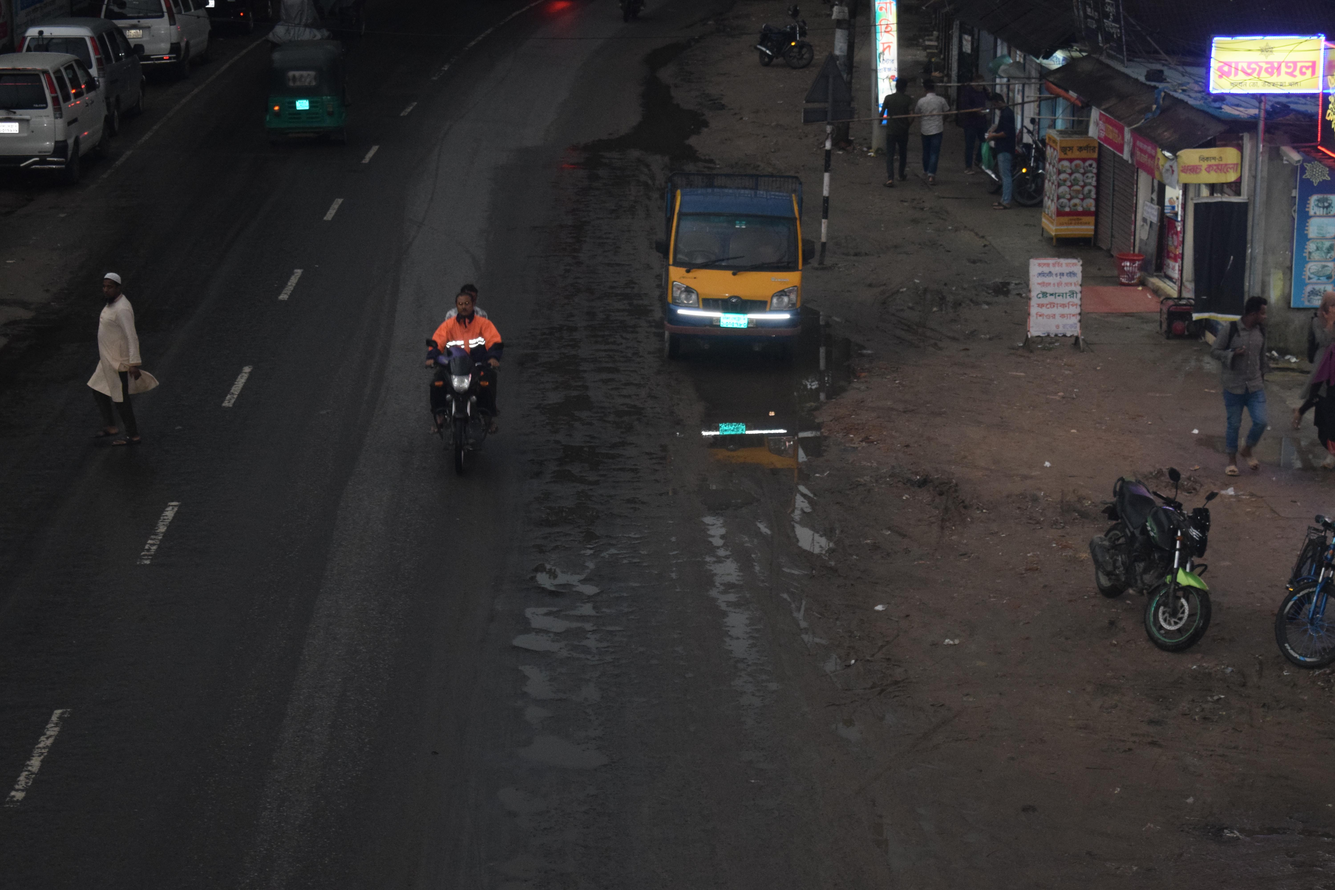Bike: (356, 261, 555, 508), (1057, 448, 1250, 686), (743, 10, 826, 71)
Car: (0, 40, 145, 193), (85, 0, 235, 86)
Truck: (616, 127, 857, 396)
